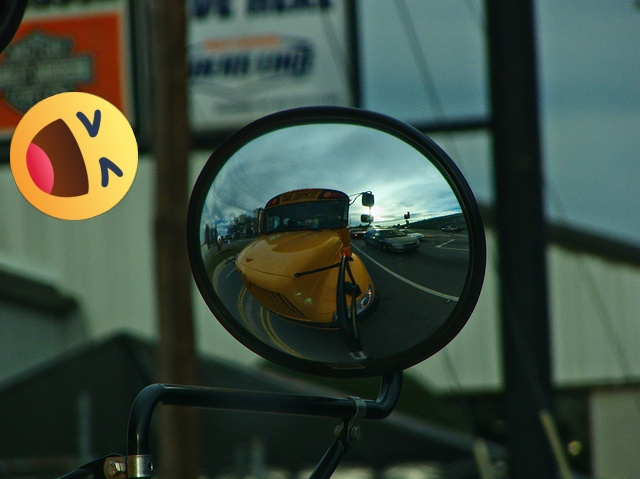haha: (10, 92, 138, 220)
